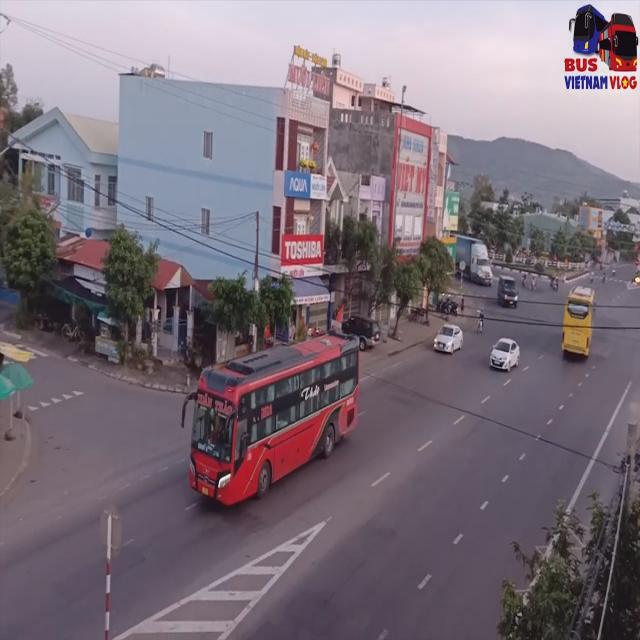bus: (188, 340, 359, 512), (562, 285, 594, 361)
car: (488, 338, 521, 376), (434, 323, 464, 357)
truck: (560, 2, 638, 89)
